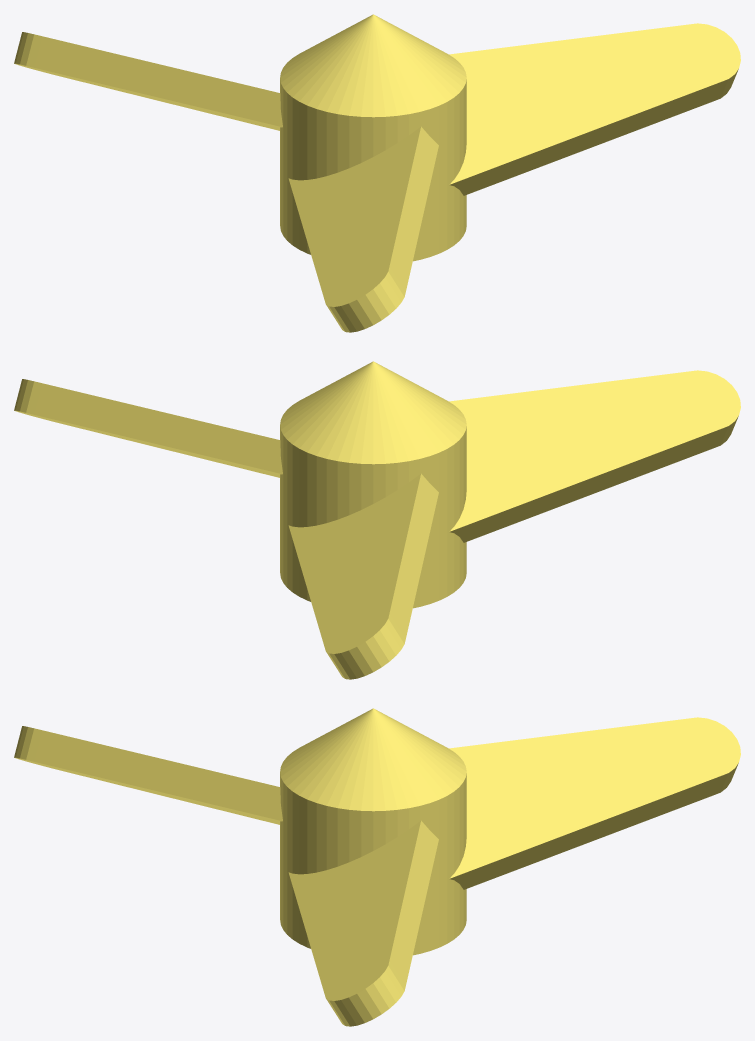
The model's file is propeller.glb.
3 renders of one model, top to bottom at view 1: azimuth 30°, elevation 25°; view 2: azimuth 150°, elevation 25°; view 3: azimuth 270°, elevation 25°, orthographic.
Bounding box in the file's own units: 27.65 × 10 × 31.16.
